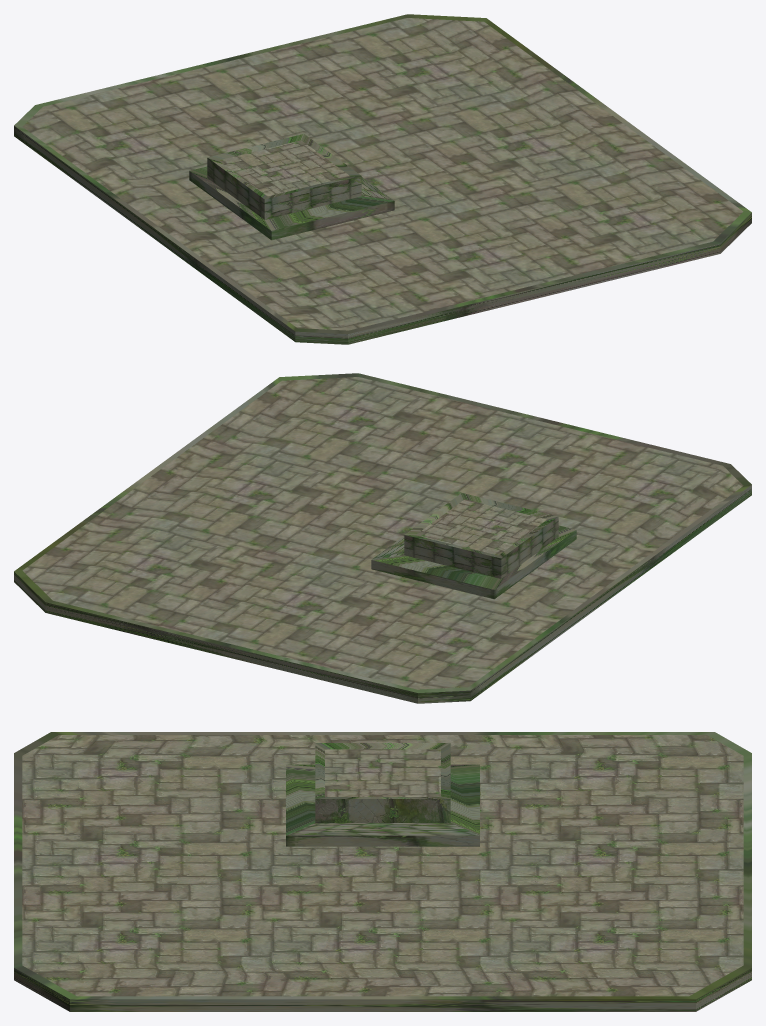
File: agora.glb
3 views of the same model, one above another, from view 1: azimuth 30°, elevation 25°; view 2: azimuth 150°, elevation 25°; view 3: azimuth 270°, elevation 25° (orthographic). The views are drawn at different scales.
Visible parts, largest first — view 1: Cube.001; view 2: Cube.001; view 3: Cube.001.
Part boxes in pixels (bbox=[...]): Cube.001: bbox=[14, 14, 751, 344]; Cube.001: bbox=[14, 373, 751, 703]; Cube.001: bbox=[14, 732, 751, 1011].
Bounding box in the file's own units: 25.74 × 2.17 × 30.02.
Materials: 2 (2 with a texture image).
